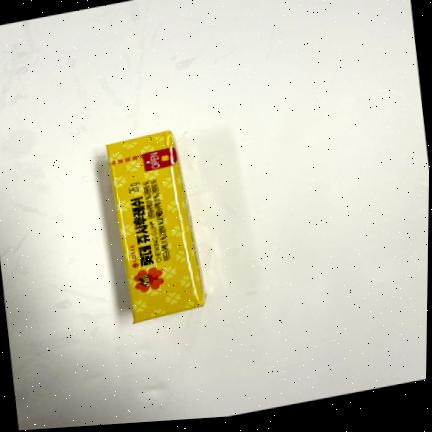gum_yellow: (106, 131, 205, 322)
